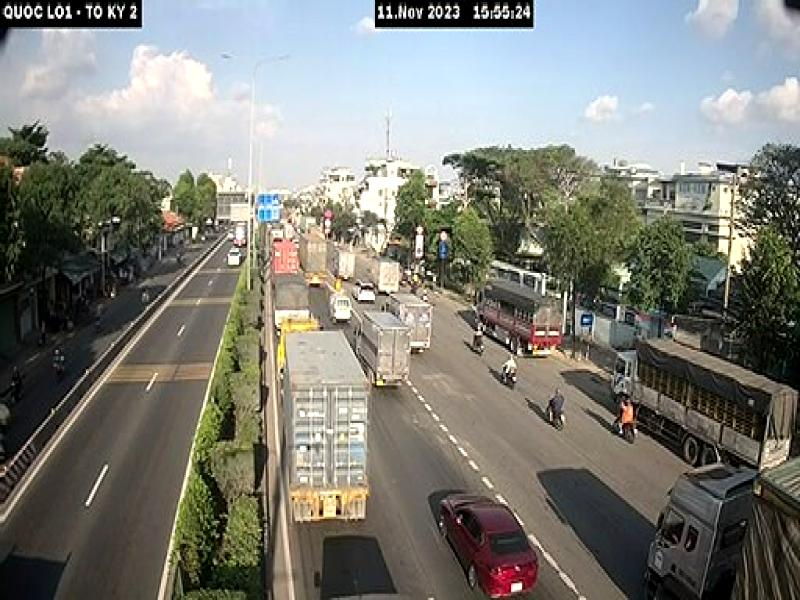truck: (613, 334, 800, 476), (642, 454, 800, 600), (276, 312, 366, 528), (474, 277, 566, 357), (353, 313, 412, 392)
